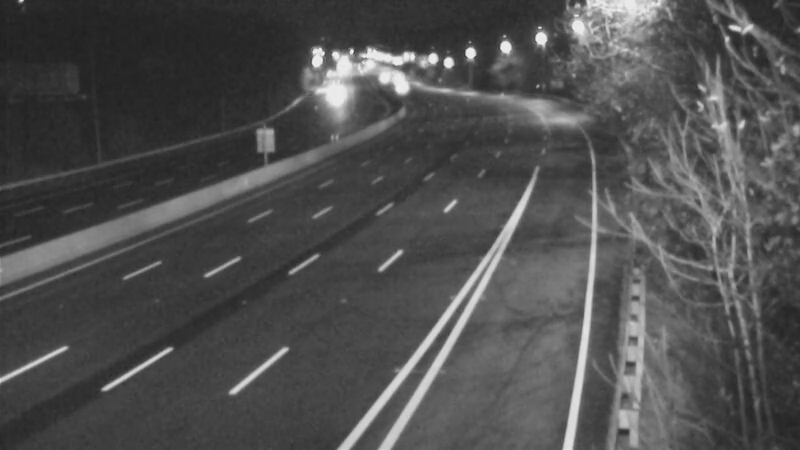vehicle: (373, 60, 423, 110), (309, 72, 359, 122)
